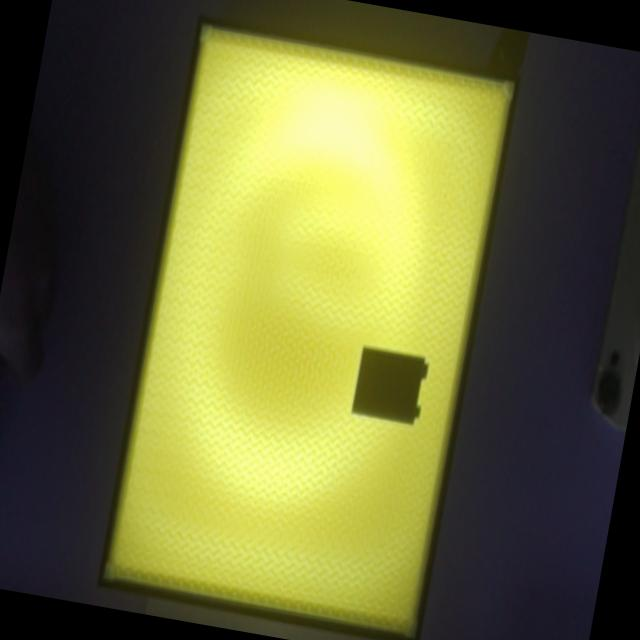bateria: (352, 347, 428, 424)
mesa: (98, 14, 520, 640)
